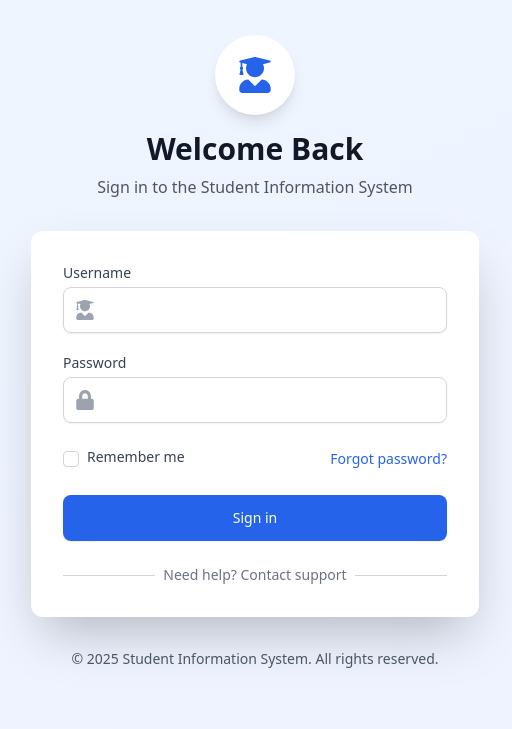
LoginPage › surfaces backend error messages for invalid credentials
This screenshot has width=512, height=729.
Type "wrong" into the field labelled "Username" at (255, 310), box [63,287,447,333]
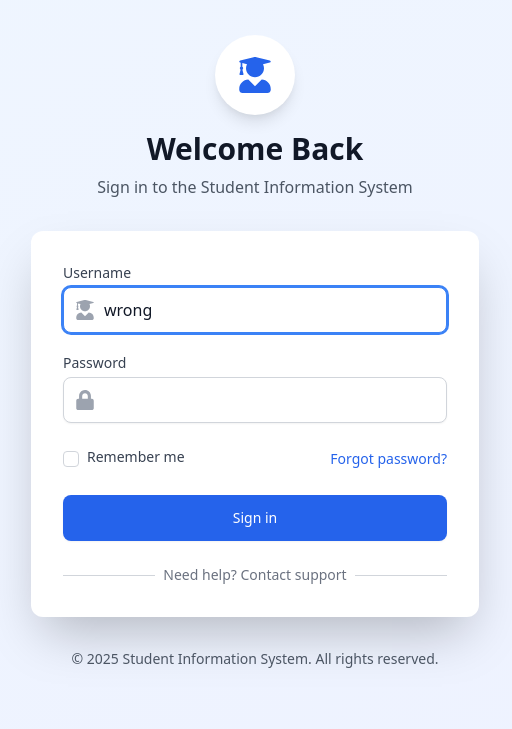
Type "bad" into the password field labelled "Password" at (255, 400), box [63,377,447,423]
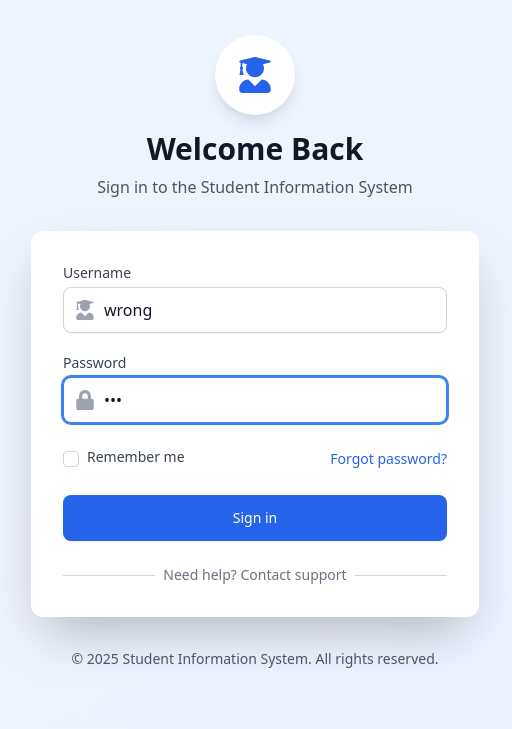
Click the button "Sign in" at (255, 518), box [63,495,447,541]
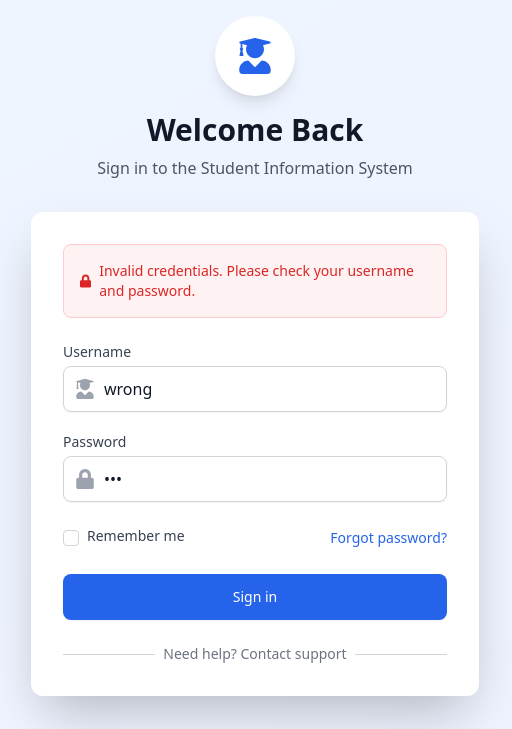
expect the button "Sign in" is enabled: met, box [63,574,447,620]
expect the text "Invalid credentials" is shown: met, box [99,261,414,300]
